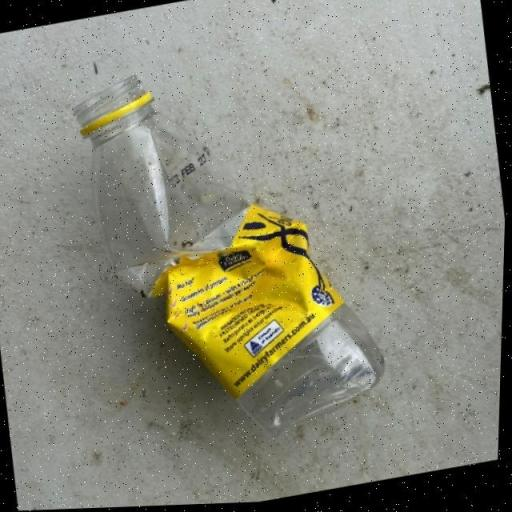plastic: (60, 37, 402, 467)
